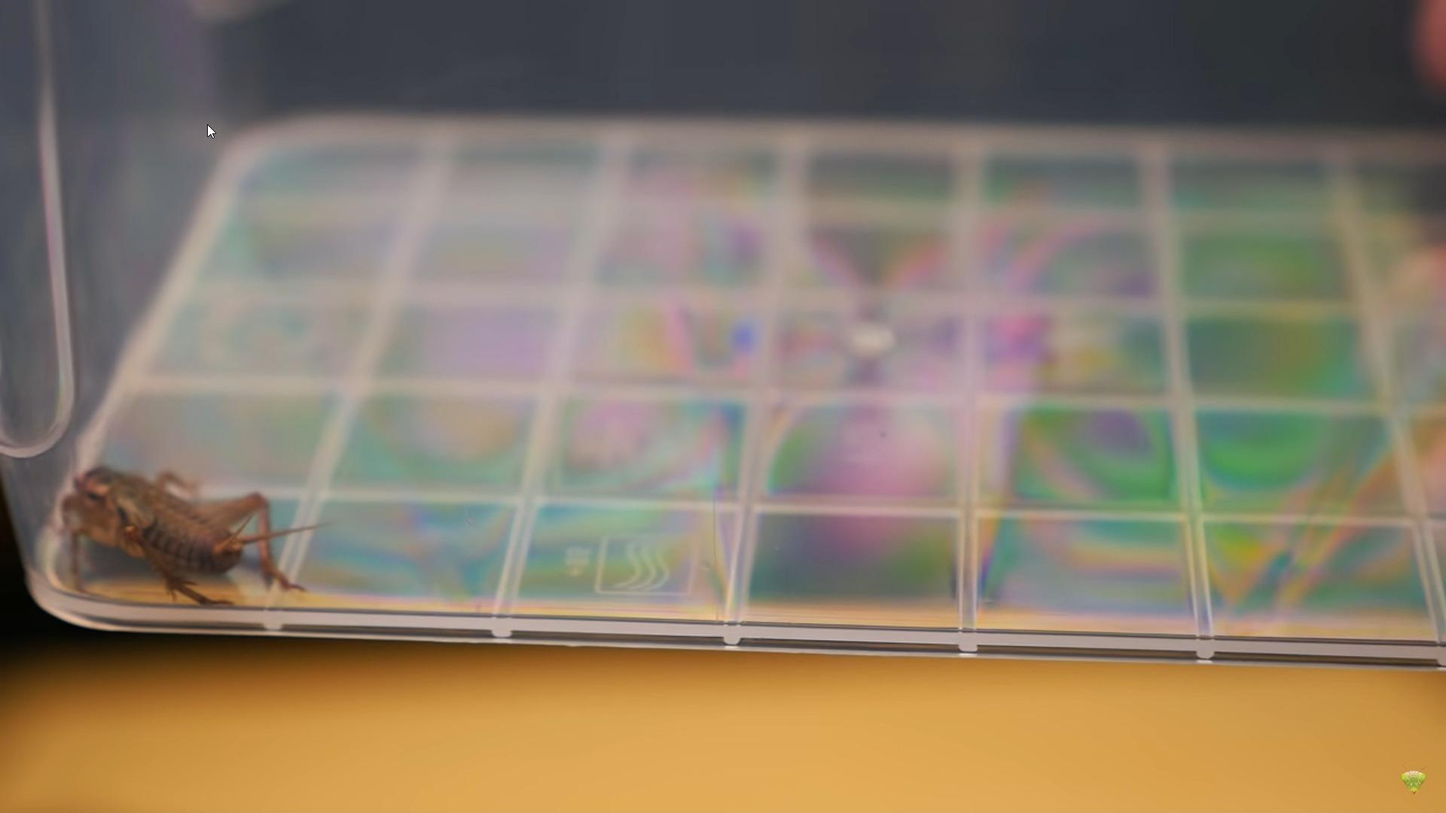cockroach: (57, 449, 300, 609)
